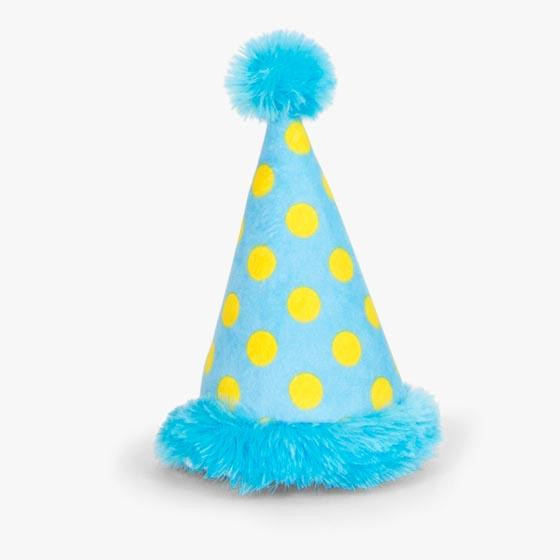cone: (200, 118, 403, 424)
